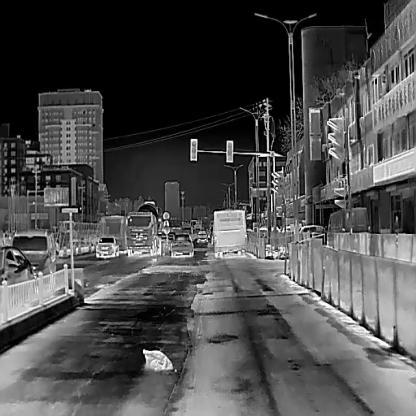car: (9, 229, 56, 288), (0, 245, 34, 318), (123, 198, 160, 257), (326, 205, 371, 248), (212, 209, 248, 258), (295, 223, 327, 244), (170, 232, 194, 256), (95, 234, 118, 258), (209, 219, 215, 244), (196, 230, 208, 242), (157, 230, 167, 243), (182, 224, 192, 235), (167, 233, 175, 242), (206, 227, 211, 238)
